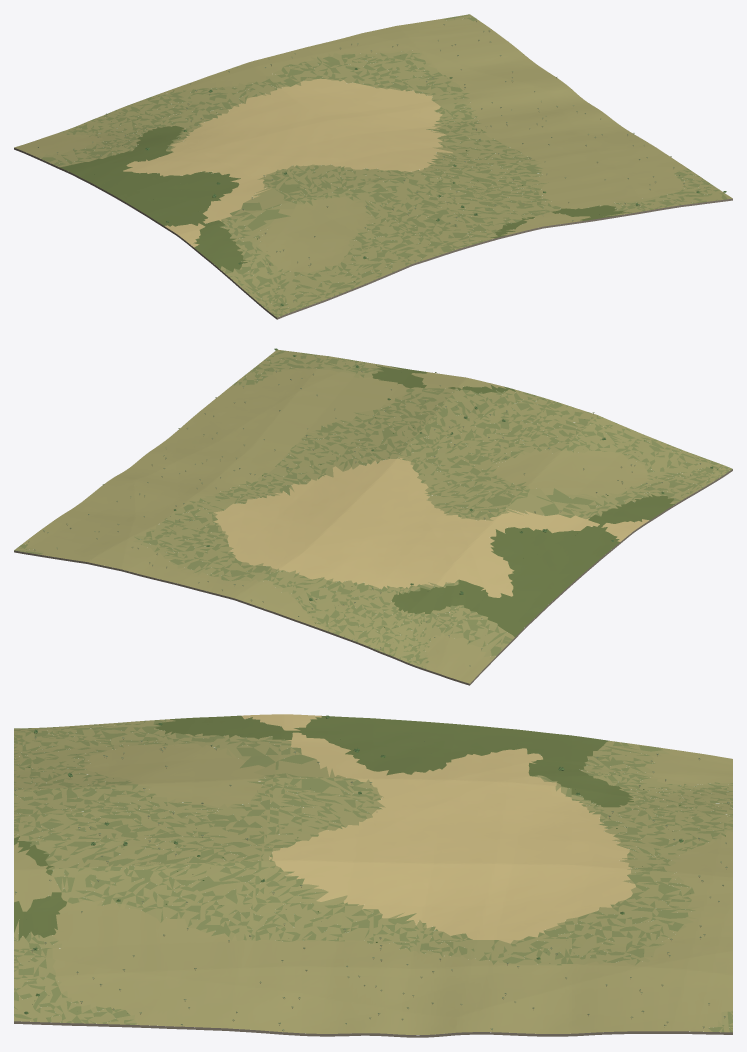
File: parca_+1_+1-yakin.glb
The picture shows the model from 3 angles, top to bottom: view 1: azimuth 30°, elevation 25°; view 2: azimuth 150°, elevation 25°; view 3: azimuth 270°, elevation 25°; orthographic projection. The views are drawn at different scales.
Parts seen in each view (by area): view 1: parca_+1_+1_arazi, parca_+1_+1_bitkiler; view 2: parca_+1_+1_arazi, parca_+1_+1_bitkiler; view 3: parca_+1_+1_arazi, parca_+1_+1_bitkiler.
Part boxes in pixels (x1,y1,x2,y2): parca_+1_+1_arazi: [14, 14, 732, 319]; parca_+1_+1_bitkiler: [37, 17, 726, 308]; parca_+1_+1_arazi: [14, 349, 732, 685]; parca_+1_+1_bitkiler: [28, 348, 717, 666]; parca_+1_+1_arazi: [14, 714, 732, 1037]; parca_+1_+1_bitkiler: [14, 715, 729, 1031].
Size of the model in its own units: 1001 by 110 by 1000.
